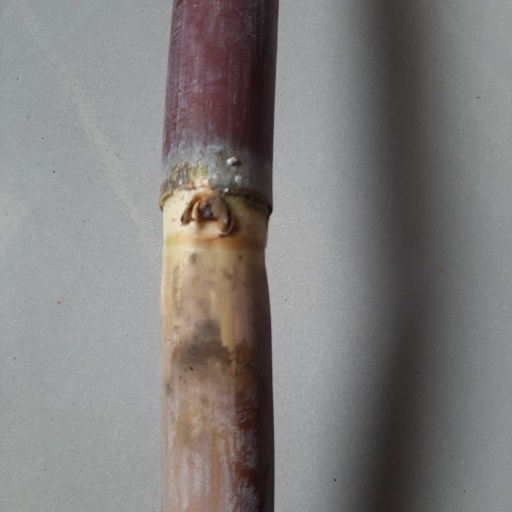Damage_Bud: (179, 192, 233, 239)
